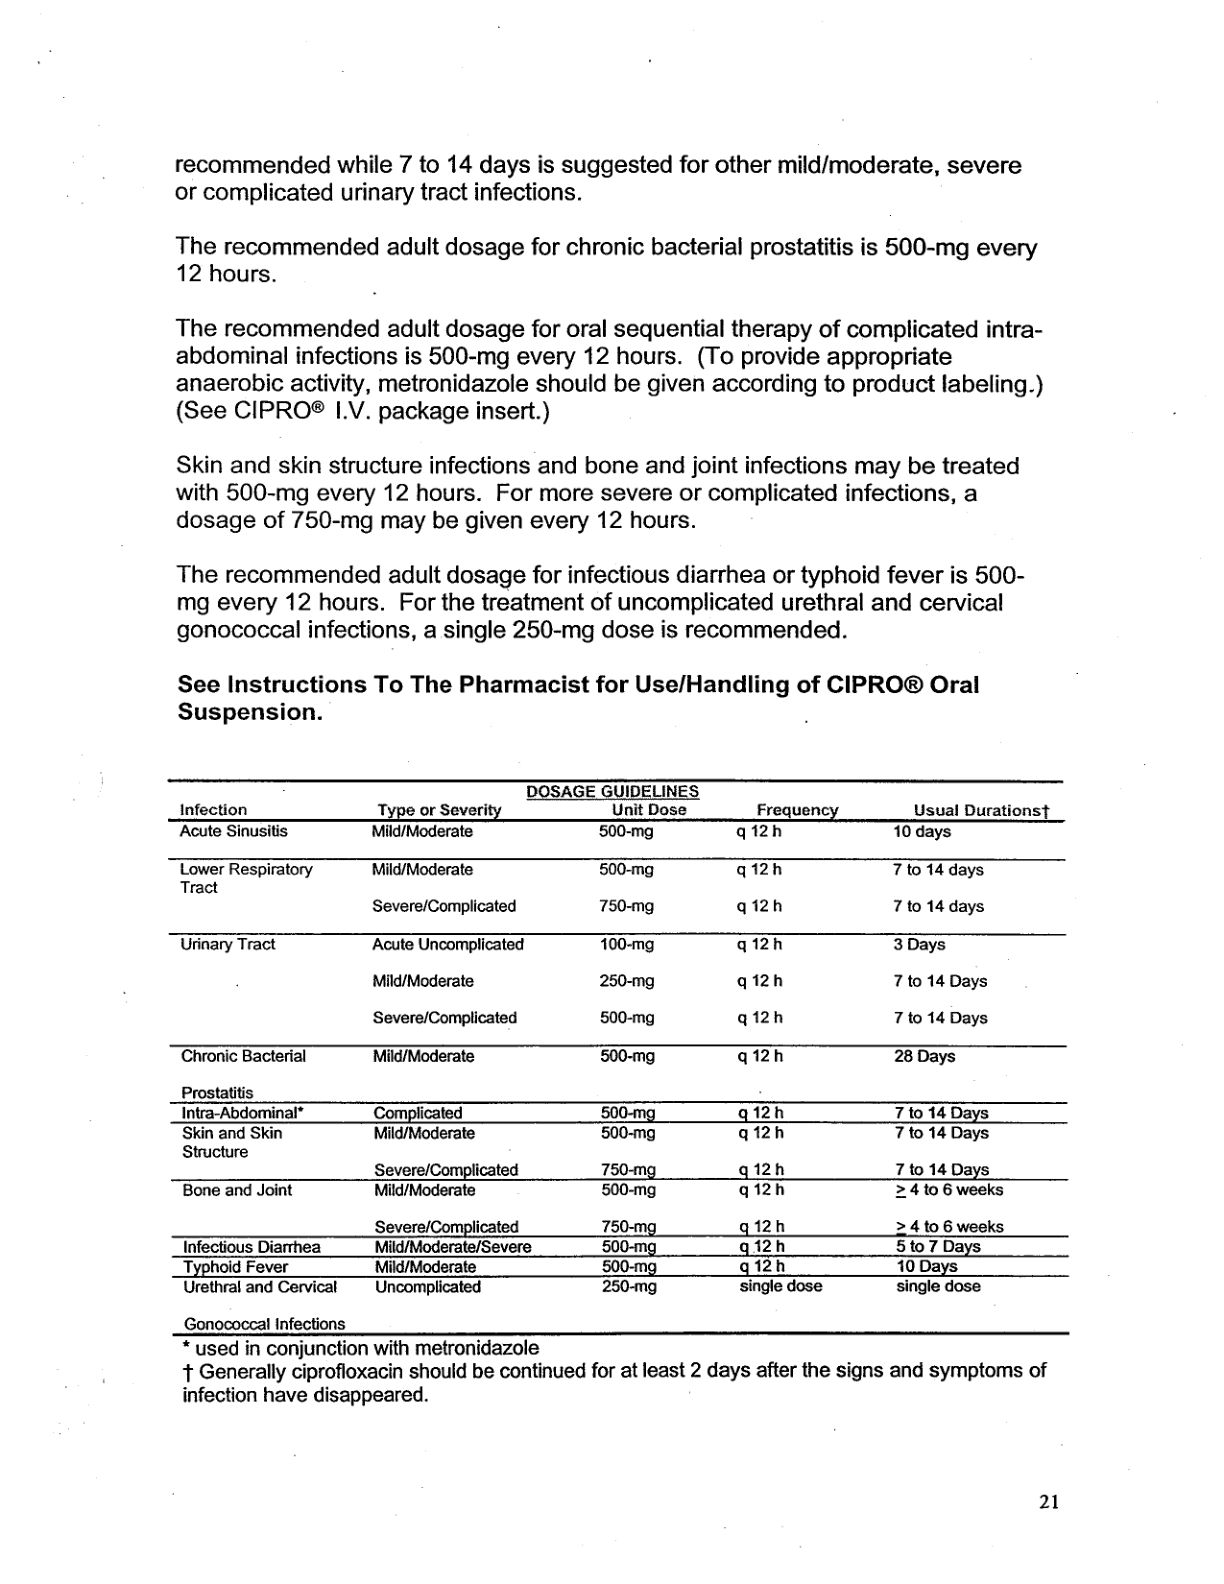partial_lined_merged_cells: (168, 777, 1068, 1338)
